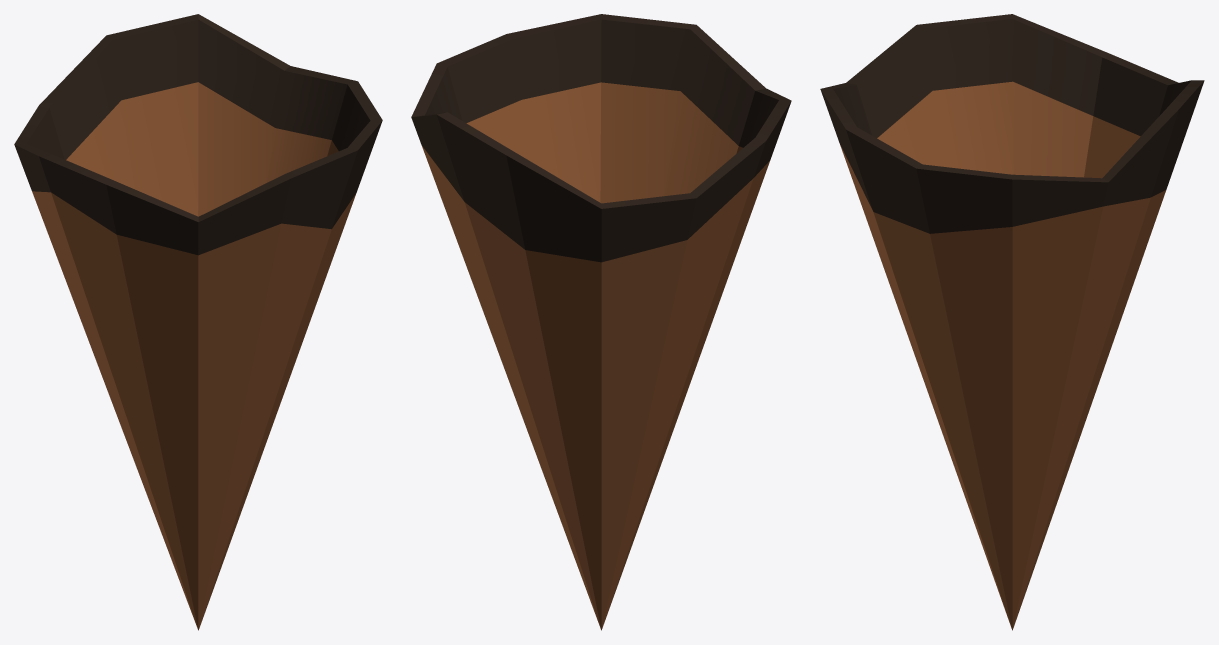
File: IceCreamCone1.fbx
The picture shows the model from 3 angles, left to right: view 1: azimuth 30°, elevation 25°; view 2: azimuth 150°, elevation 25°; view 3: azimuth 270°, elevation 25°; orthographic projection. The views are drawn at different scales.
Parts seen in each view (by area): view 1: Ice_Cream_Cone_1; view 2: Ice_Cream_Cone_1; view 3: Ice_Cream_Cone_1.
Part boxes in pixels (x1=…): Ice_Cream_Cone_1: x1=14, y1=14, x2=382, y2=630; Ice_Cream_Cone_1: x1=411, y1=14, x2=791, y2=630; Ice_Cream_Cone_1: x1=820, y1=14, x2=1204, y2=630.
Bounding box in the file's own units: 12.53 × 20.22 × 12.53.
